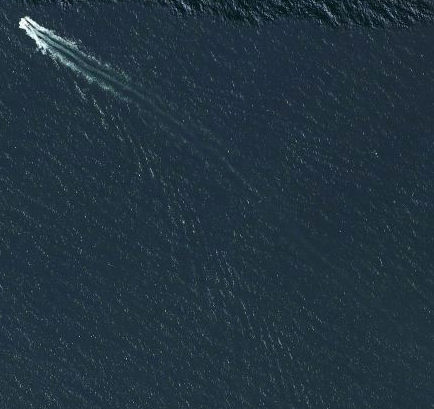ship: (17, 15, 32, 30)
